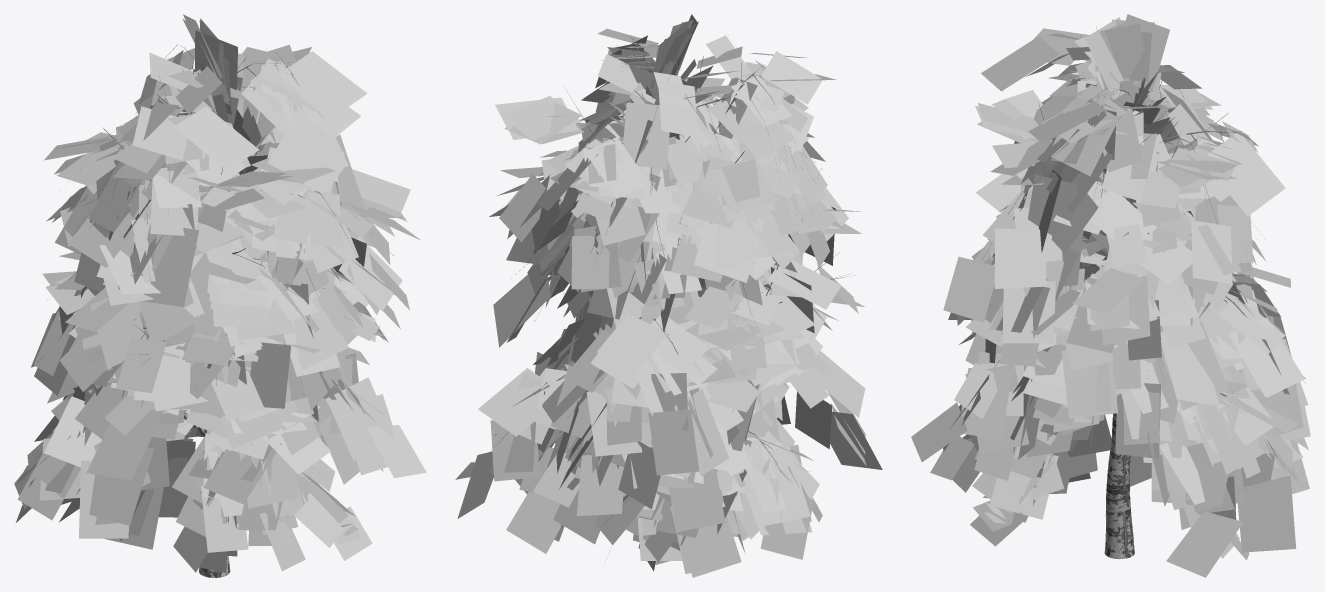
The model's file is e-birch6.fbx.
3 views of the same model, side by side, from view 1: azimuth 30°, elevation 25°; view 2: azimuth 150°, elevation 25°; view 3: azimuth 270°, elevation 25° (orthographic). The views are drawn at different scales.
Parts seen in each view (by area): view 1: birchfoliage_birchstick, birchtrunk_birchbark; view 2: birchfoliage_birchstick, birchtrunk_birchbark; view 3: birchfoliage_birchstick, birchtrunk_birchbark.
Part boxes in pixels (bbox=[...]): birchfoliage_birchstick: bbox=[14, 14, 426, 572]; birchtrunk_birchbark: bbox=[34, 44, 393, 577]; birchfoliage_birchstick: bbox=[455, 14, 882, 577]; birchtrunk_birchbark: bbox=[489, 36, 855, 507]; birchfoliage_birchstick: bbox=[911, 14, 1310, 577]; birchtrunk_birchbark: bbox=[967, 26, 1305, 559].
Size of what is drawn, in the model's own units: 425 by 620 by 422.
